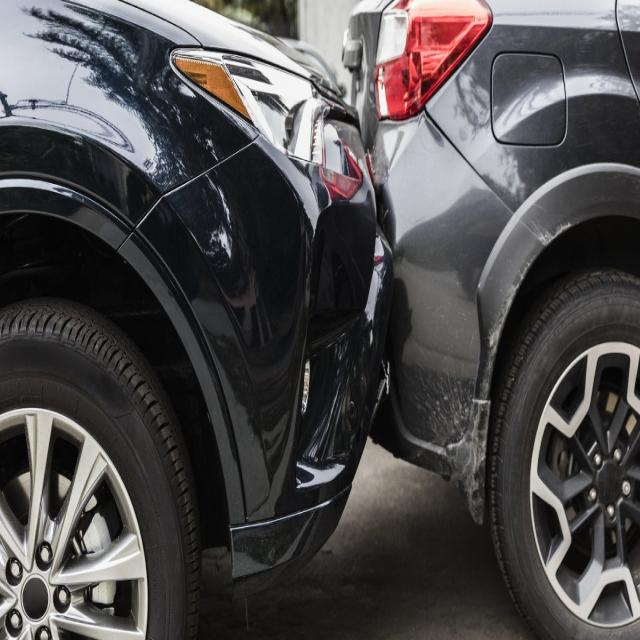scratch: (409, 215, 571, 525)
tear: (373, 359, 390, 417)
